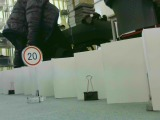speed_20: (20, 45, 43, 68)
